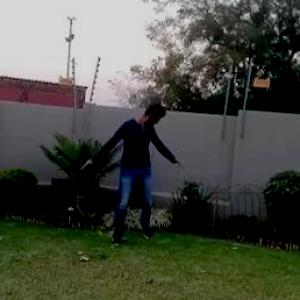land: (78, 100, 195, 253)
